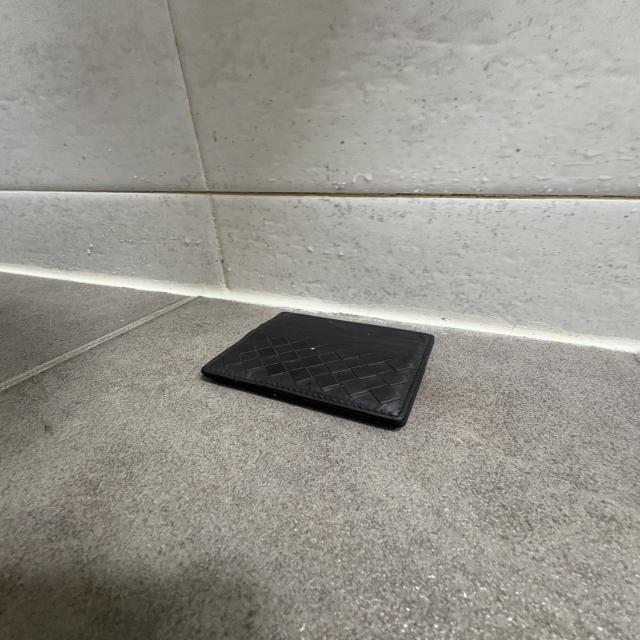wallet: (199, 310, 435, 430)
